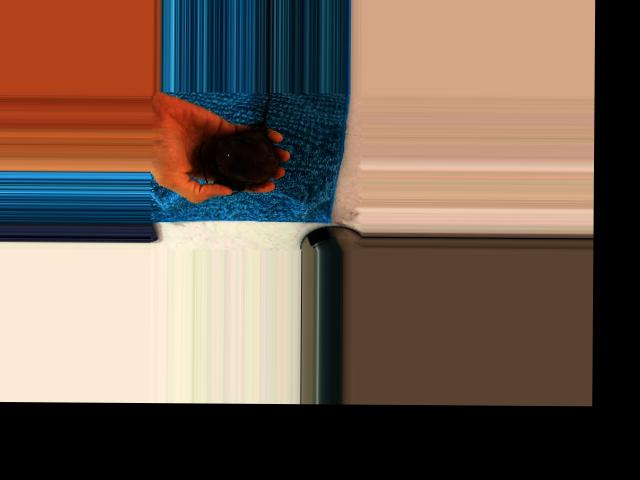beet: (199, 90, 280, 195)
